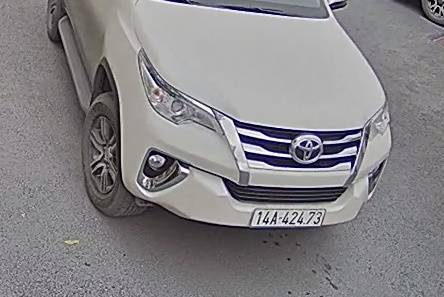vehicle plate: (250, 200, 329, 231)
